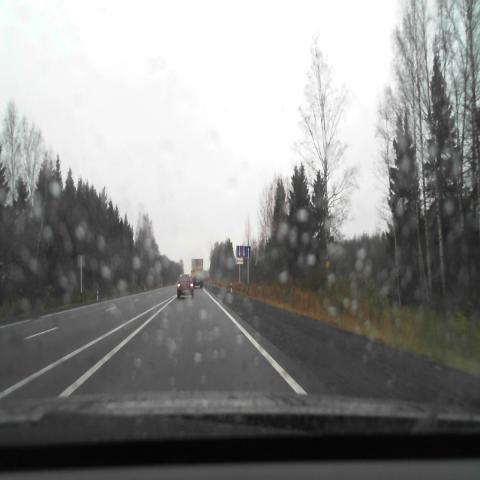5_15_7: (236, 245, 251, 257)
